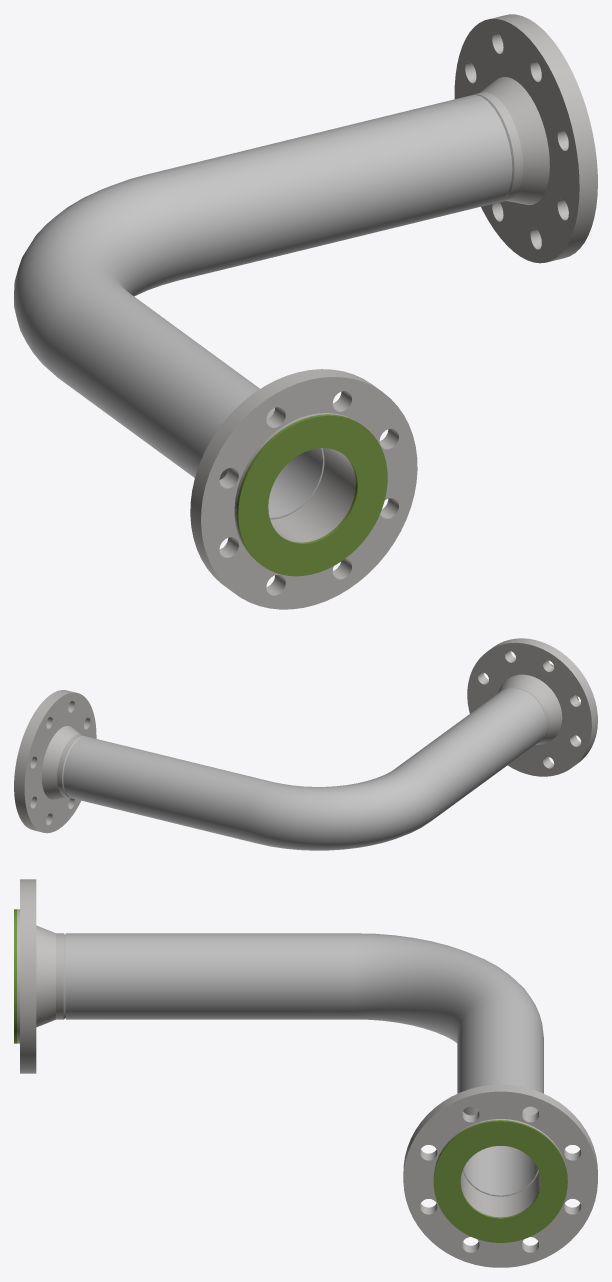
File: Rohr 90 Grad mit Flansch DN80 (beidseitig).obj
3 views of the same model, one above another, from view 1: azimuth 30°, elevation 25°; view 2: azimuth 150°, elevation 25°; view 3: azimuth 270°, elevation 25° (orthographic). The views are drawn at different scales.
Parts seen in each view (by area): view 1: Volumenkörper1, Solid1, Solid1:1, Volumenkörper1:1; view 2: Volumenkörper1, Solid1, Solid1:1; view 3: Volumenkörper1, Solid1:1, Volumenkörper1:2, Solid1.
Boxes of the visible parts, x1=… form: Volumenkörper1: x1=14, y1=94, x2=512, y2=519; Solid1: x1=190, y1=369, x2=417, y2=609; Solid1:1: x1=454, y1=14, x2=597, y2=263; Volumenkörper1:1: x1=236, y1=414, x2=387, y2=576; Volumenkörper1: x1=63, y1=688, x2=546, y2=850; Solid1: x1=467, y1=638, x2=597, y2=776; Solid1:1: x1=14, y1=690, x2=96, y2=833; Volumenkörper1: x1=65, y1=933, x2=543, y2=1196; Solid1:1: x1=403, y1=1084, x2=597, y2=1267; Volumenkörper1:2: x1=433, y1=1120, x2=567, y2=1242; Solid1: x1=17, y1=879, x2=65, y2=1073.
Size of the model in its own units: 600 by 200 by 600.
